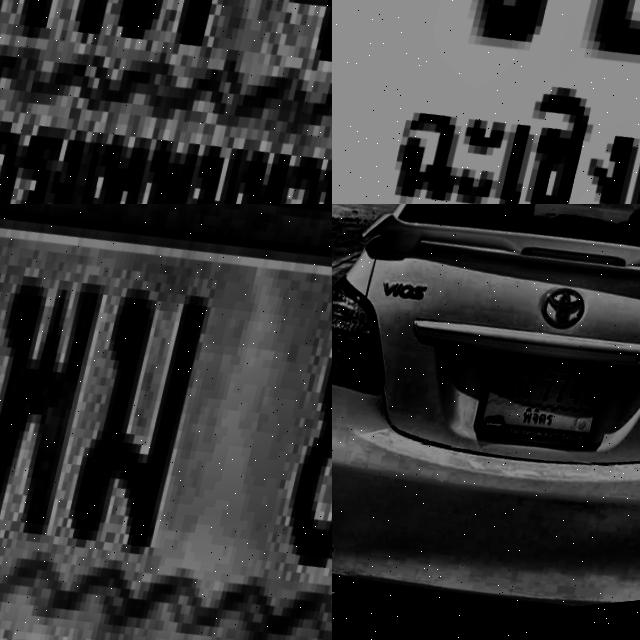license-plate: (0, 204, 332, 640), (0, 0, 332, 204), (332, 0, 640, 204), (463, 330, 624, 469)
